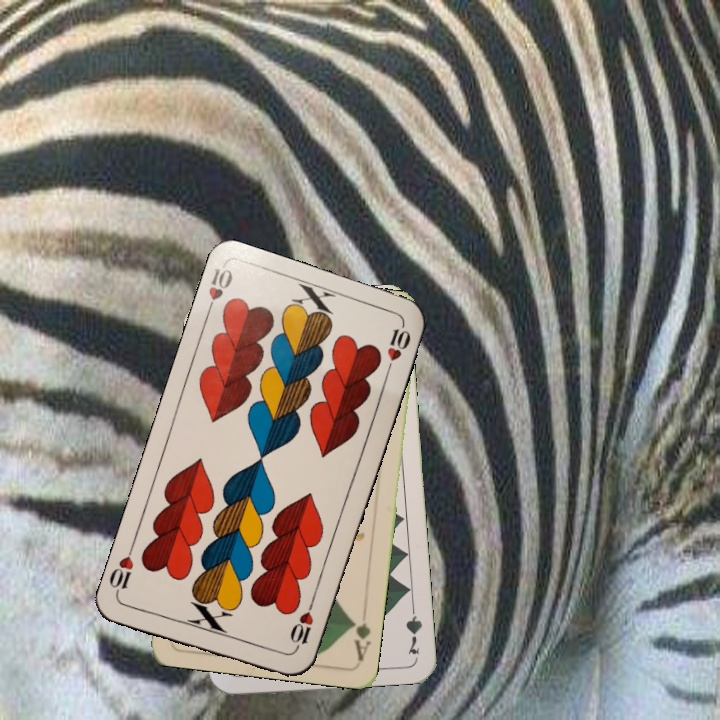G7: (401, 598, 425, 657)
GA: (347, 604, 373, 663)
H10: (201, 261, 235, 320), (285, 597, 317, 655)
